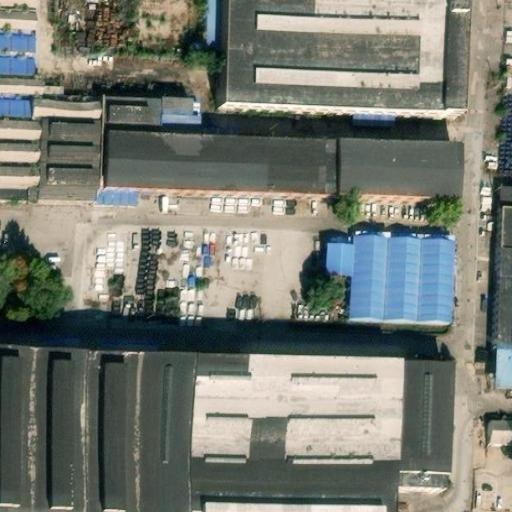building: (217, 0, 465, 116), (103, 129, 460, 200), (0, 75, 103, 201), (325, 232, 457, 321), (105, 95, 202, 133), (493, 208, 512, 349), (202, 0, 220, 48), (355, 112, 396, 131), (488, 415, 512, 446), (499, 2, 512, 52), (103, 187, 139, 205), (496, 350, 512, 387), (498, 188, 512, 208)
